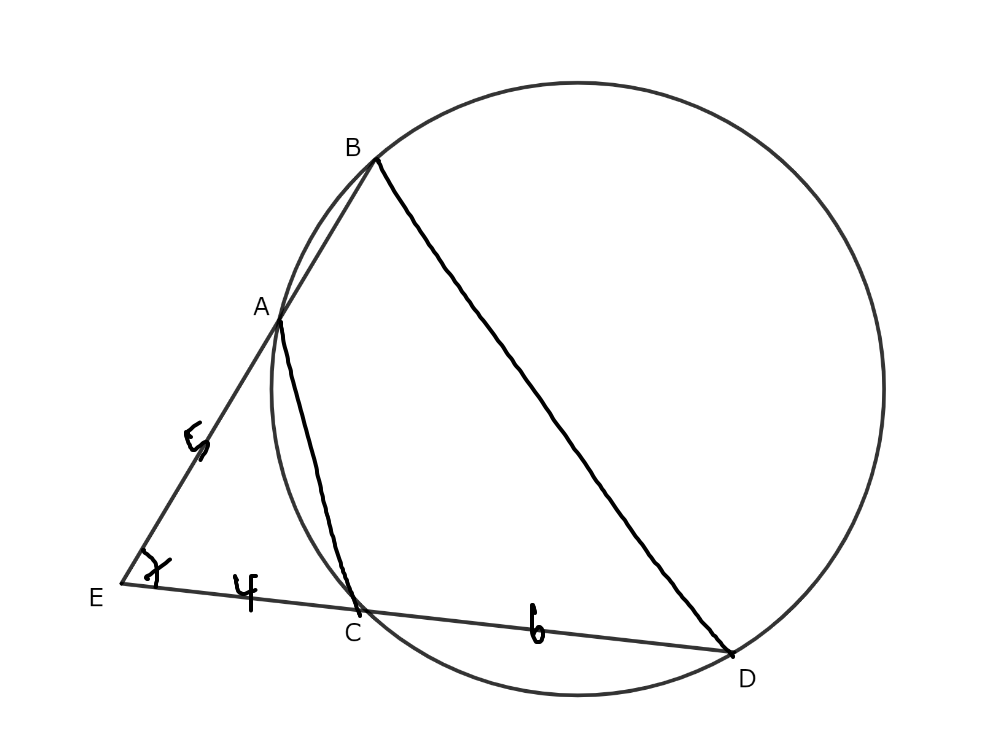Angle_CurveSline: (132, 544, 178, 594)
